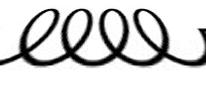inductor: (0, 8, 197, 74)
